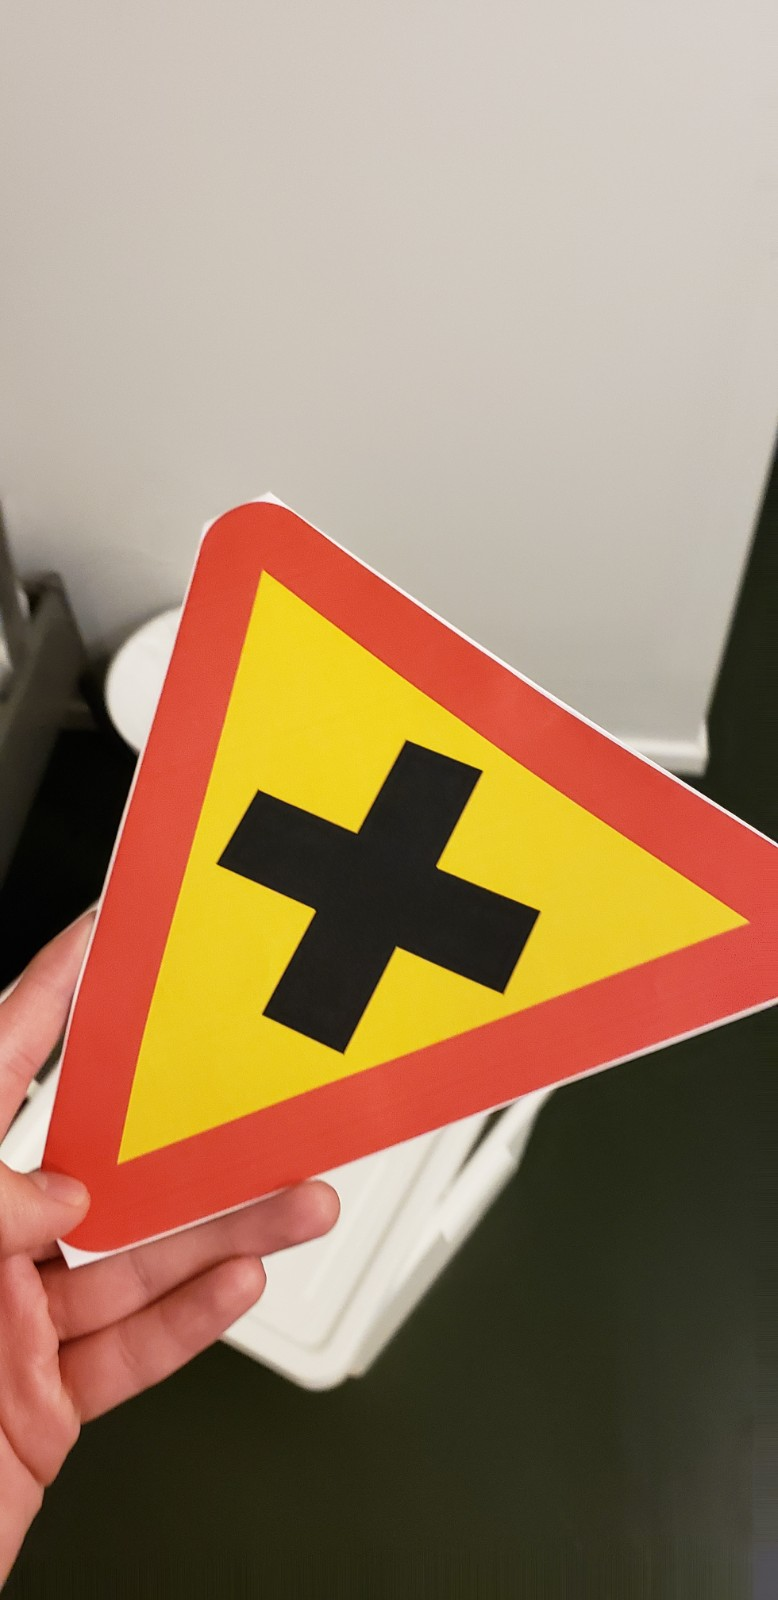junction: (51, 492, 778, 1269)
